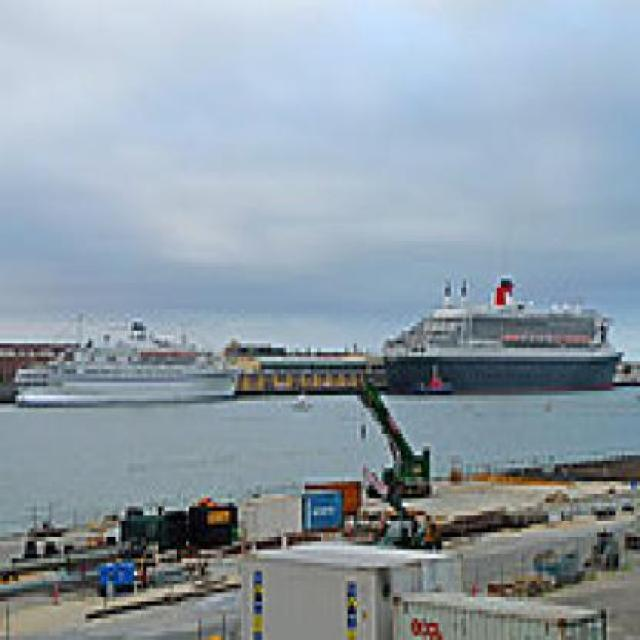cruise: (376, 259, 636, 405)
